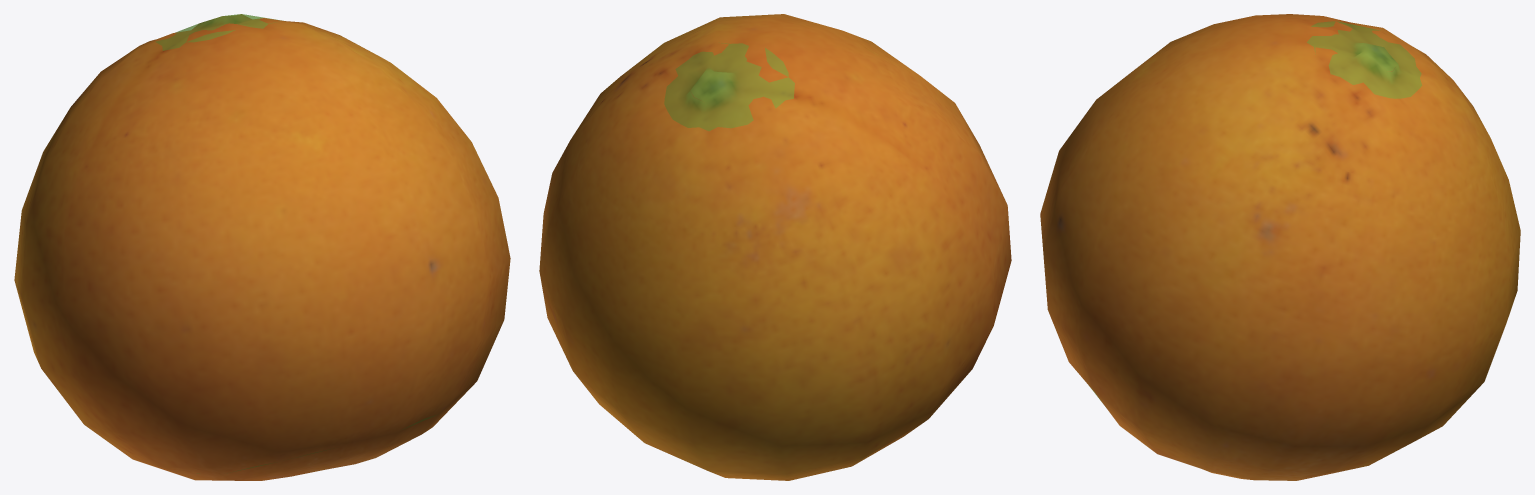
Rendered from pg_Orange_01.fbx.
3 renders of one model, left to right at view 1: azimuth 30°, elevation 25°; view 2: azimuth 150°, elevation 25°; view 3: azimuth 270°, elevation 25°, orthographic. The views are drawn at different scales.
Parts seen in each view (by area): view 1: pg_Orange_01_a_LOD0, pg_Orange_01_a_col; view 2: pg_Orange_01_a_LOD0, pg_Orange_01_a_col; view 3: pg_Orange_01_a_LOD0, pg_Orange_01_a_col.
Boxes of the visible parts, left/top/right/bottom form: pg_Orange_01_a_LOD0: left=14, top=14, right=510, bottom=480; pg_Orange_01_a_col: left=155, top=14, right=436, bottom=473; pg_Orange_01_a_LOD0: left=539, top=14, right=1011, bottom=480; pg_Orange_01_a_col: left=664, top=43, right=794, bottom=130; pg_Orange_01_a_LOD0: left=1040, top=14, right=1520, bottom=480; pg_Orange_01_a_col: left=1089, top=21, right=1421, bottom=401.
Size of what is drawn, in the model's own units: 7.92 by 7.63 by 7.81.
